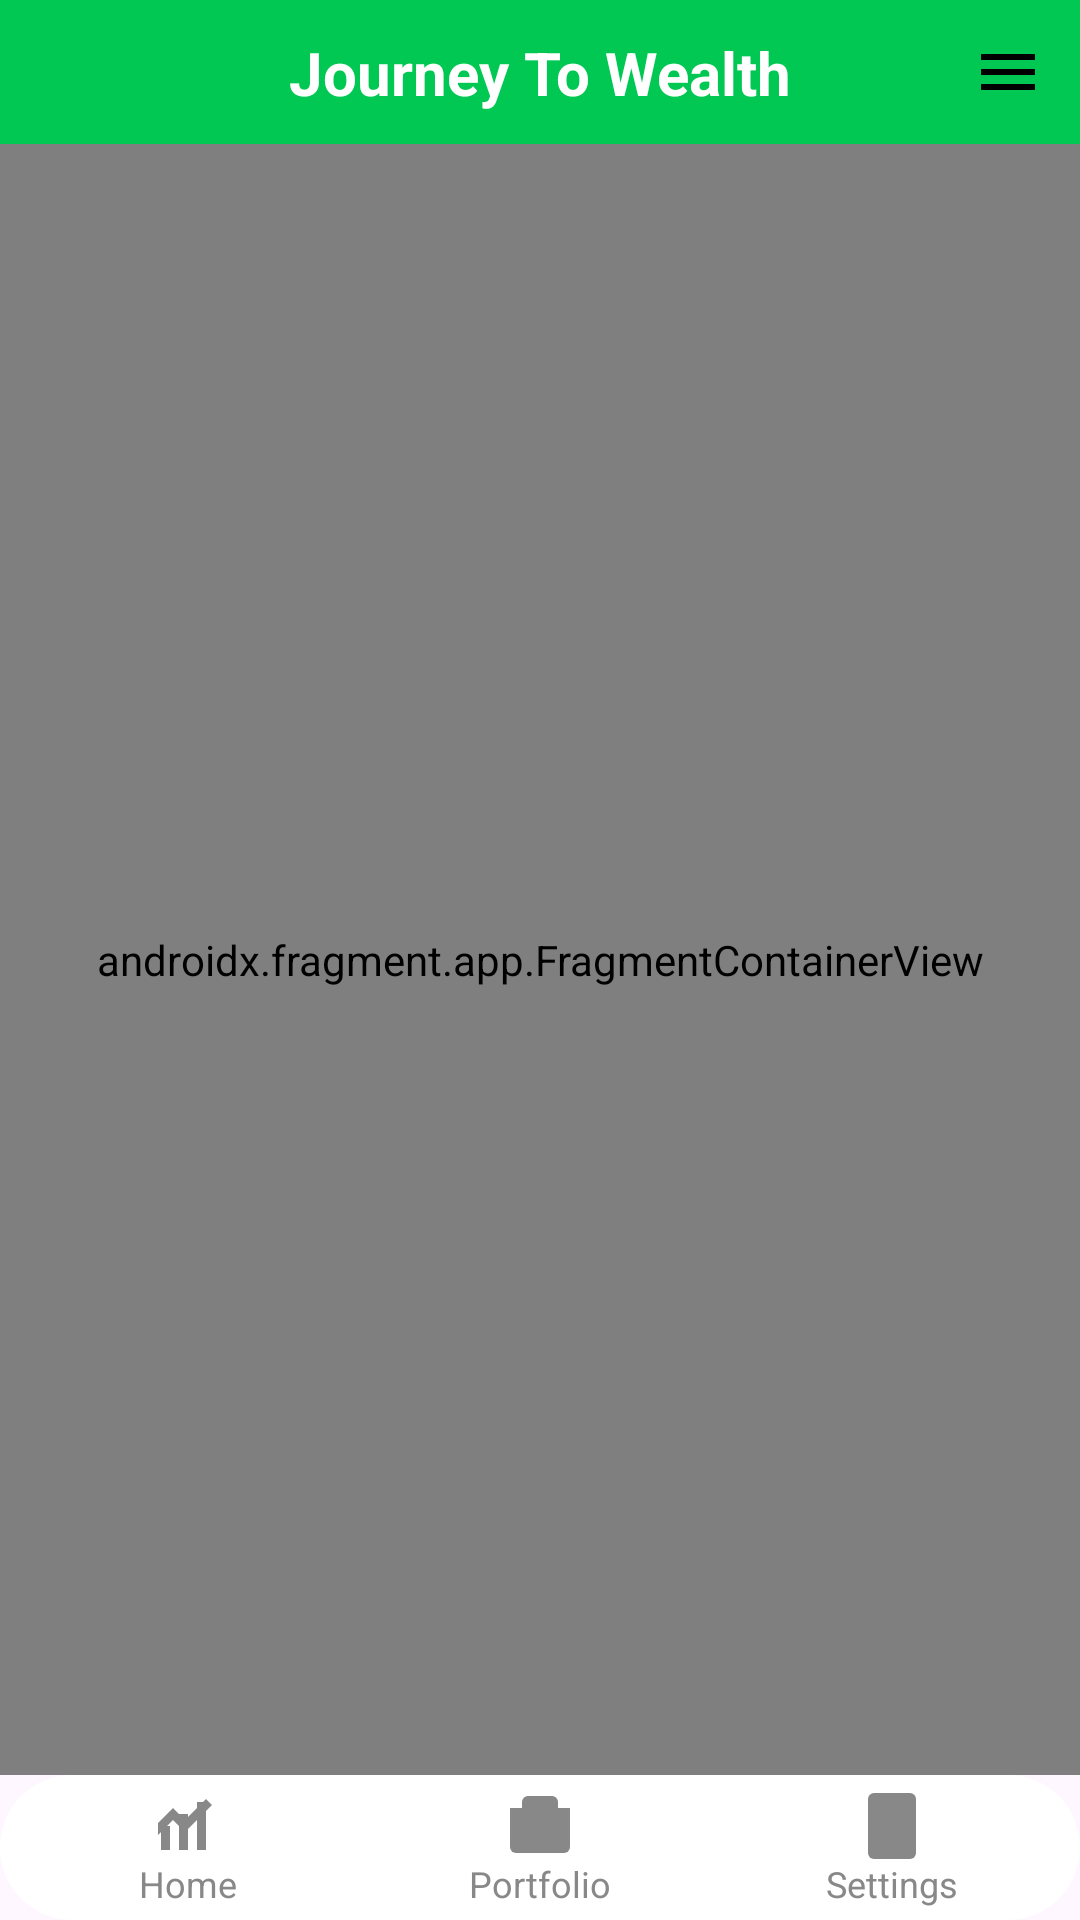

Named icons in this screenshot (1080w x 1920h) and their centers, (x,y):
menu: (1008,72)
stock: (185,1824)
